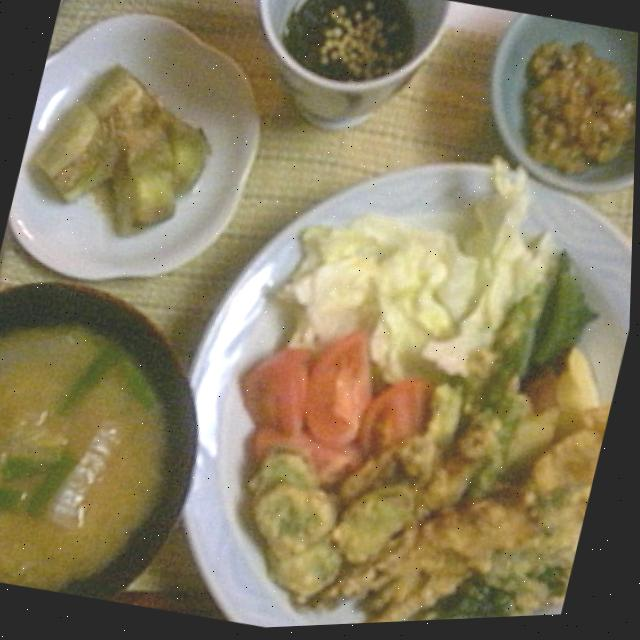蔬菜料理: (191, 287, 626, 633)
